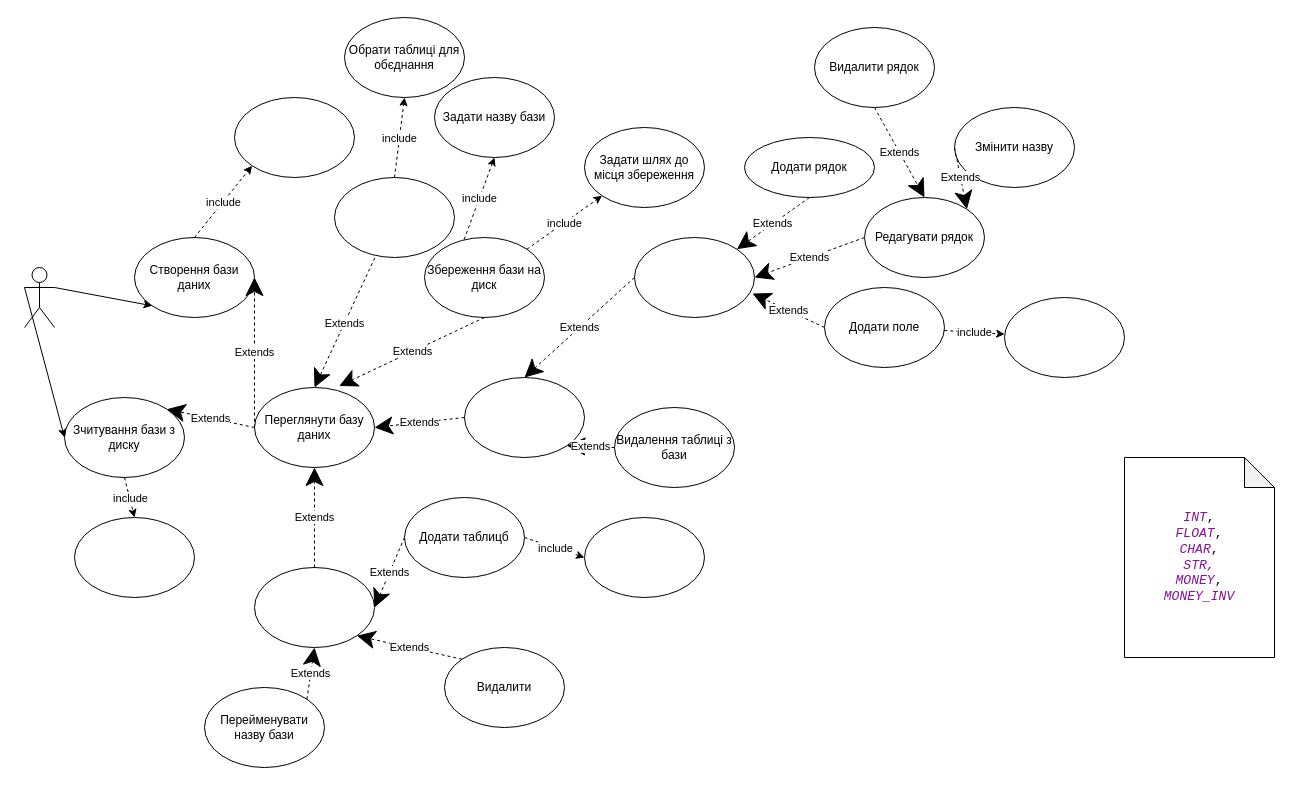
The diagram is 1292 pixels wide and 785 high, and some of its shapes have lost their labels. The shapes that lost their labels are listed below. From the top down, each one's centre as x and y in pixels, then its label:
(294,137): Задати назву
(394,217): Операція обєднання
(39,297): Actor
(694,277): Редагування таблиці в базі
(1064,337): Задати тип
(524,417): Перегляд таблиці в базі
(134,557): Задати шлях до бази
(644,557): Задати назву таблиці та поля
(314,607): Редагувати БД
